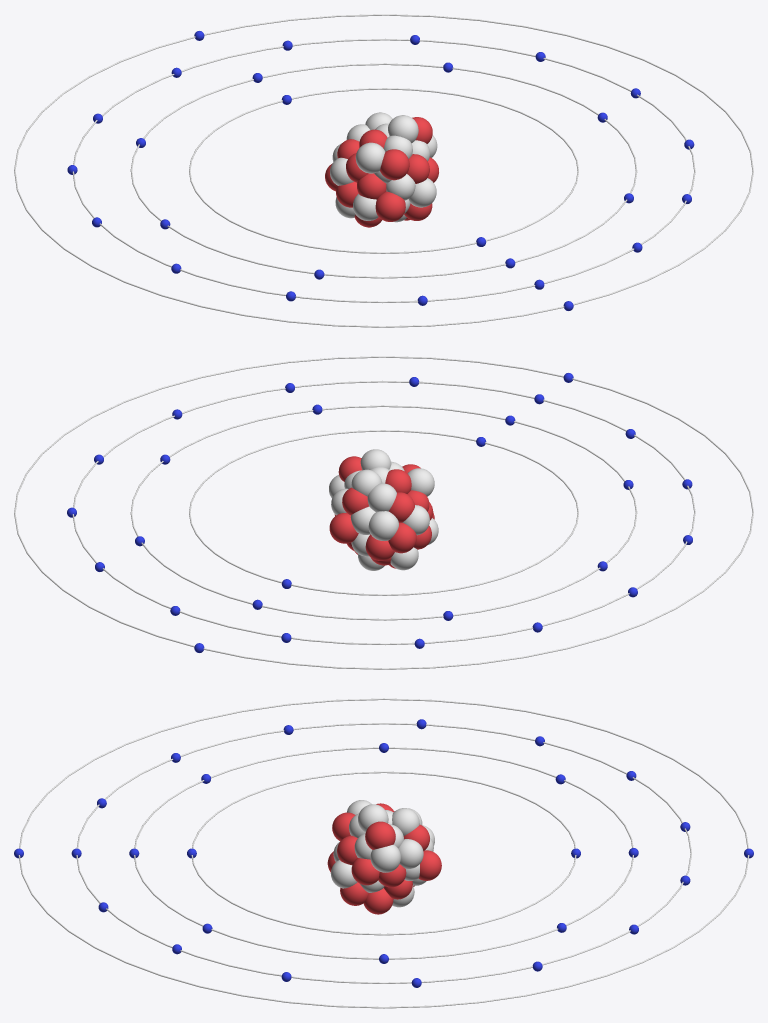
Rendered from Cobalt.glb.
3 views of the same model, one above another, from view 1: azimuth 30°, elevation 25°; view 2: azimuth 150°, elevation 25°; view 3: azimuth 270°, elevation 25° (orthographic).
Parts seen in each view (by area): view 1: N-Schale, M-Schale, L-Schale, K-Schale, Proton 27, Neutron 32, Proton 24, Neutron 31, Proton 10, Neutron 27; view 2: N-Schale, M-Schale, L-Schale, K-Schale, Neutron 8, Neutron 16, Proton 18, Proton 4, Neutron 30, Neutron 32, Proton 8; view 3: N-Schale, M-Schale, L-Schale, K-Schale, Proton 26, Neutron 28, Neutron 22, Proton 22, Neutron 31, Proton 25, Proton 18, Neutron 30 (+1 smaller).
Part boxes in pixels (x1,y1,x2,y2): N-Schale: [14, 14, 753, 327]; M-Schale: [72, 38, 695, 303]; L-Schale: [130, 63, 637, 278]; K-Schale: [189, 88, 578, 253]; Proton 27: [380, 149, 409, 180]; Neutron 32: [355, 142, 385, 173]; Proton 24: [375, 191, 405, 221]; Neutron 31: [388, 115, 418, 143]; Proton 10: [357, 173, 386, 199]; Neutron 27: [409, 178, 436, 207]; N-Schale: [14, 356, 753, 669]; M-Schale: [72, 380, 695, 645]; L-Schale: [130, 405, 637, 620]; K-Schale: [189, 430, 578, 595]; Neutron 8: [368, 511, 398, 540]; Neutron 16: [367, 483, 396, 512]; Proton 18: [329, 513, 358, 543]; Proton 4: [388, 522, 416, 553]; Neutron 30: [351, 469, 382, 496]; Neutron 32: [407, 468, 434, 496]; Proton 8: [388, 492, 414, 522]; N-Schale: [18, 698, 749, 1008]; M-Schale: [76, 723, 691, 983]; L-Schale: [134, 747, 633, 959]; K-Schale: [191, 771, 576, 935]; Proton 26: [365, 821, 395, 849]; Neutron 28: [370, 844, 400, 872]; Neutron 22: [398, 839, 423, 868]; Proton 22: [351, 858, 379, 885]; Neutron 31: [358, 804, 388, 832]; Proton 25: [363, 888, 393, 914]; Proton 18: [418, 850, 441, 880]; Neutron 30: [392, 808, 419, 835].
Bounding box in the file's own units: 19.04 × 3.03 × 19.26.
